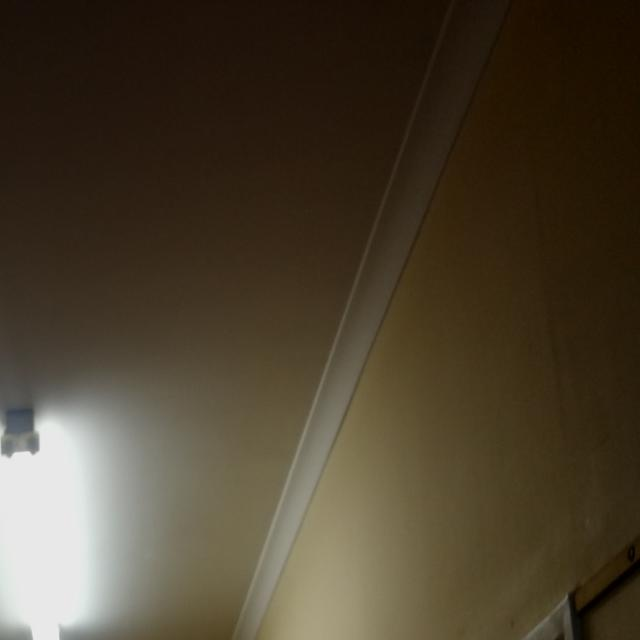fluorescent tube: (0, 400, 104, 640)
